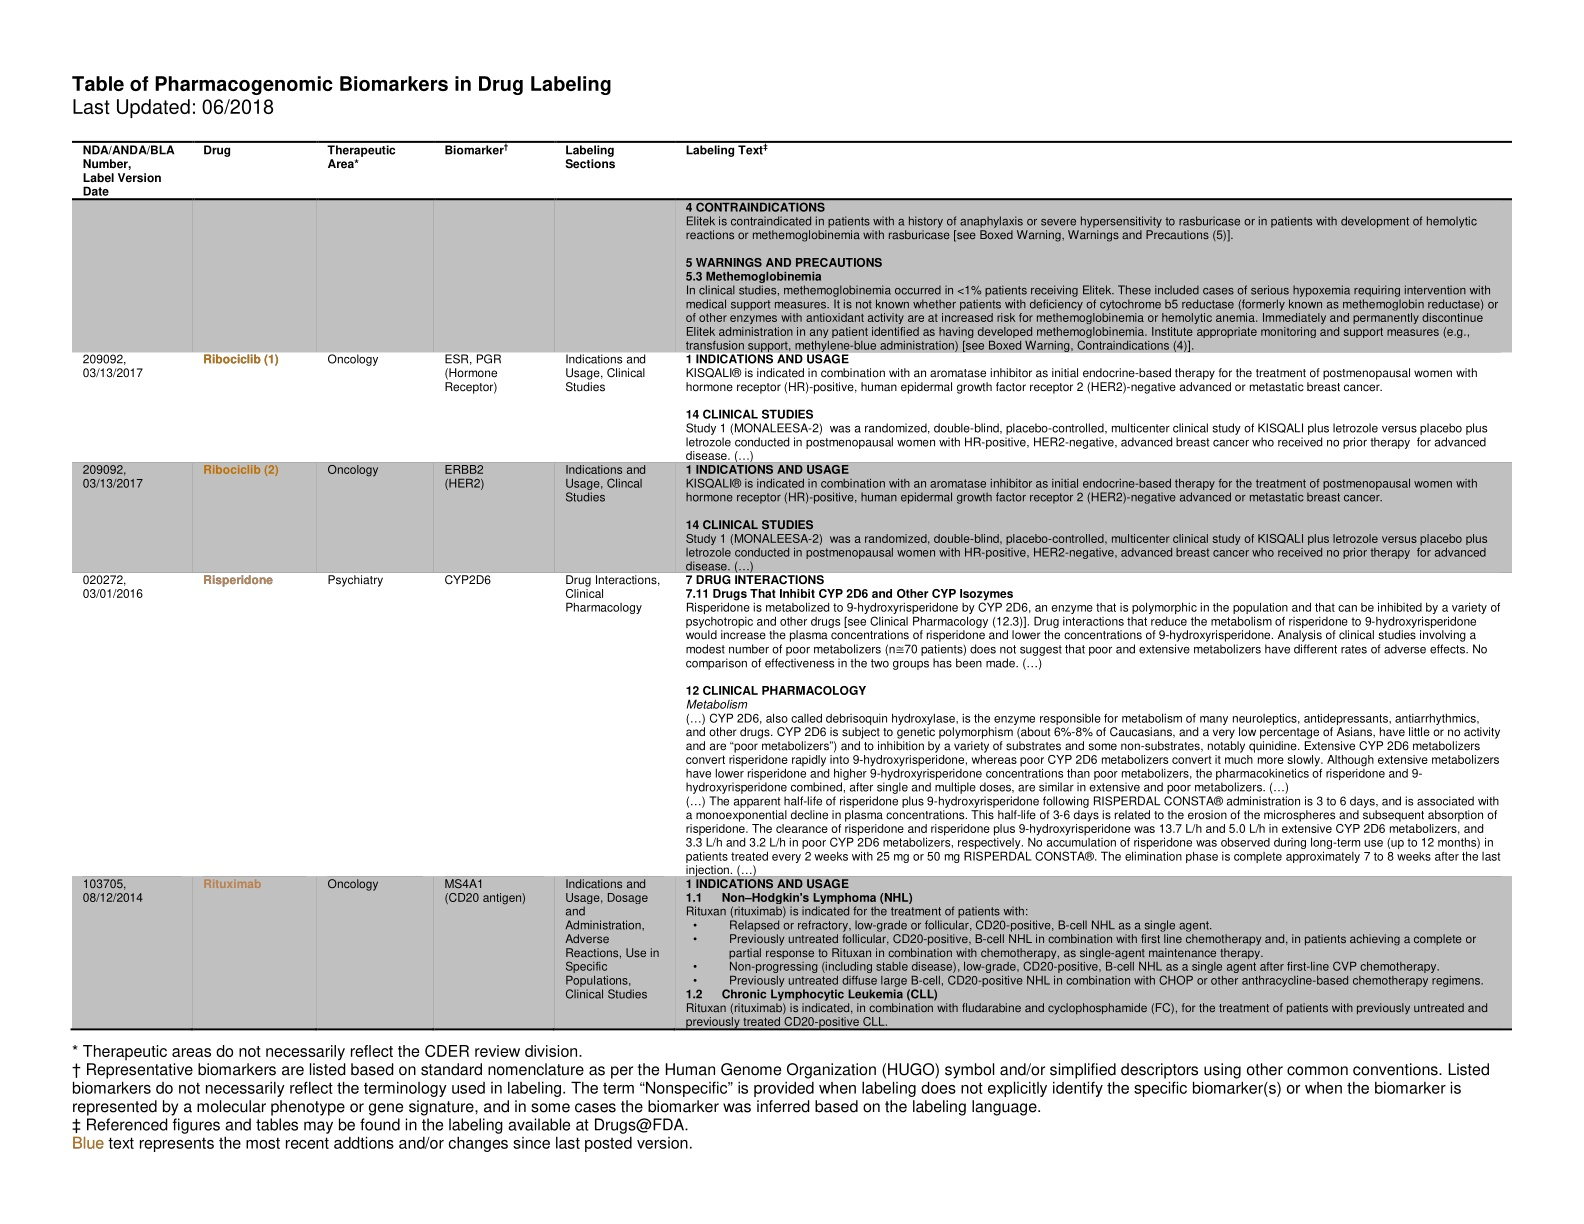partial_lined: (69, 140, 1515, 1032)
